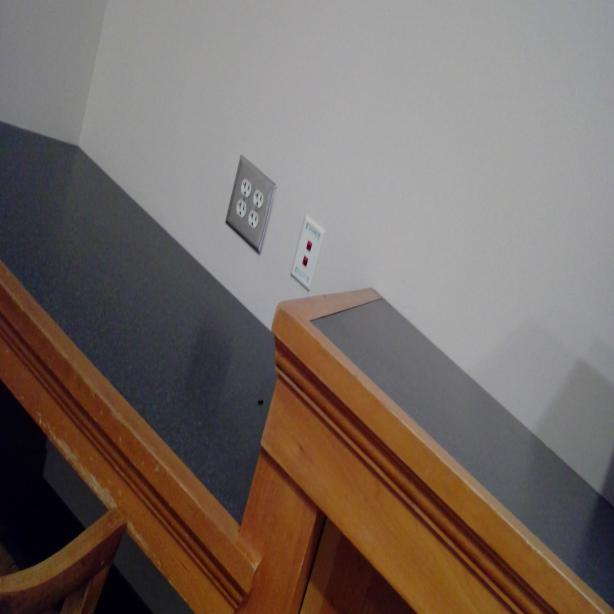typeb: (240, 175, 252, 197), (247, 212, 260, 230), (253, 187, 264, 208), (236, 200, 246, 219)
